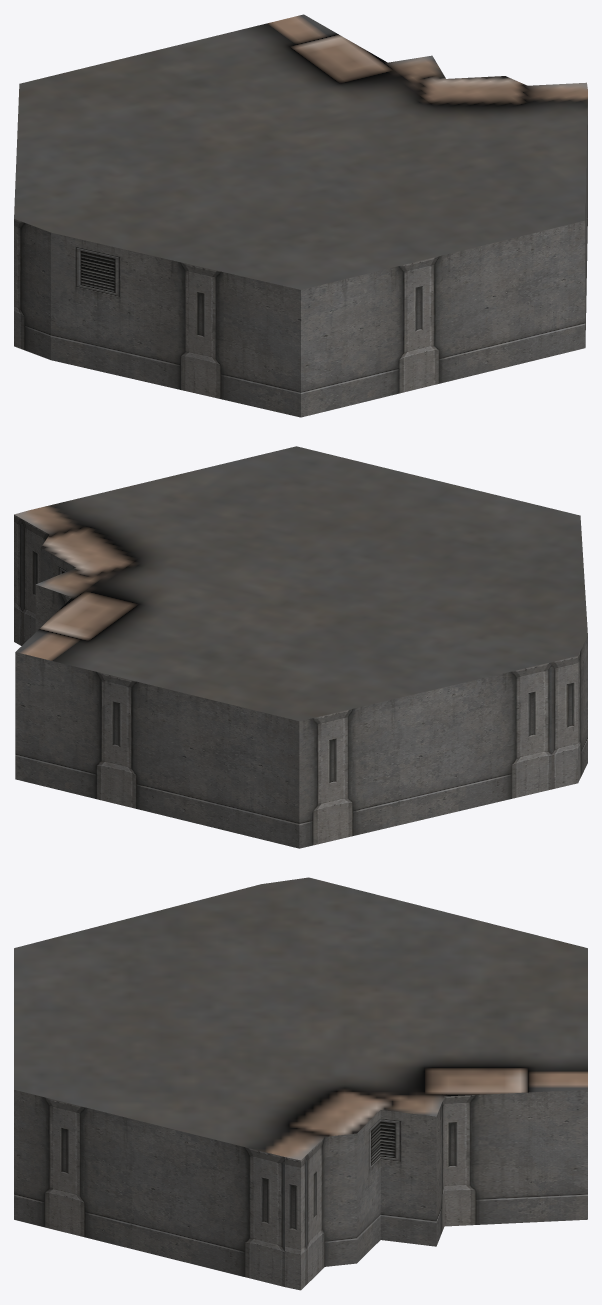
The model's file is building_hard_67.glb.
The picture shows the model from 3 angles, top to bottom: view 1: azimuth 30°, elevation 25°; view 2: azimuth 150°, elevation 25°; view 3: azimuth 270°, elevation 25°; orthographic projection. The views are drawn at different scales.
Visible parts, largest first — view 1: buildings/saxarba/building_hard/building_hard_67; view 2: buildings/saxarba/building_hard/building_hard_67; view 3: buildings/saxarba/building_hard/building_hard_67.
Part boxes in pixels (x1,y1,x2,y2): buildings/saxarba/building_hard/building_hard_67: [14, 14, 587, 417]; buildings/saxarba/building_hard/building_hard_67: [14, 446, 587, 848]; buildings/saxarba/building_hard/building_hard_67: [14, 877, 587, 1290].
Size of the model in its own units: 84 by 18 by 72.
